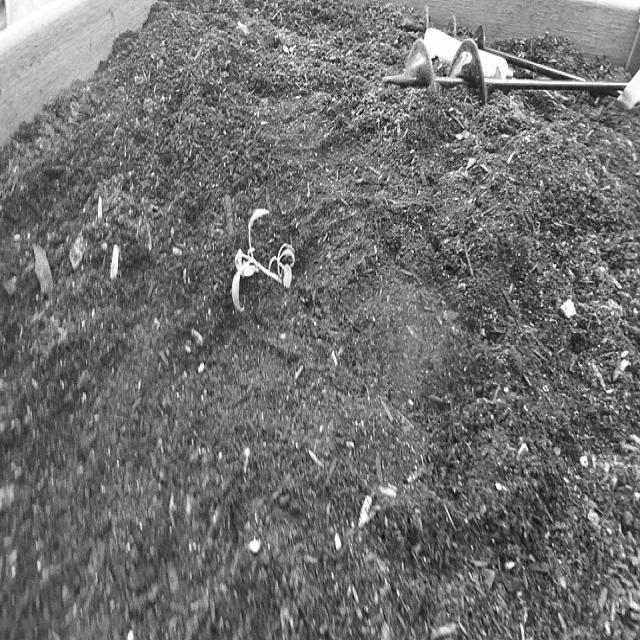Healthy: (216, 190, 303, 324)
